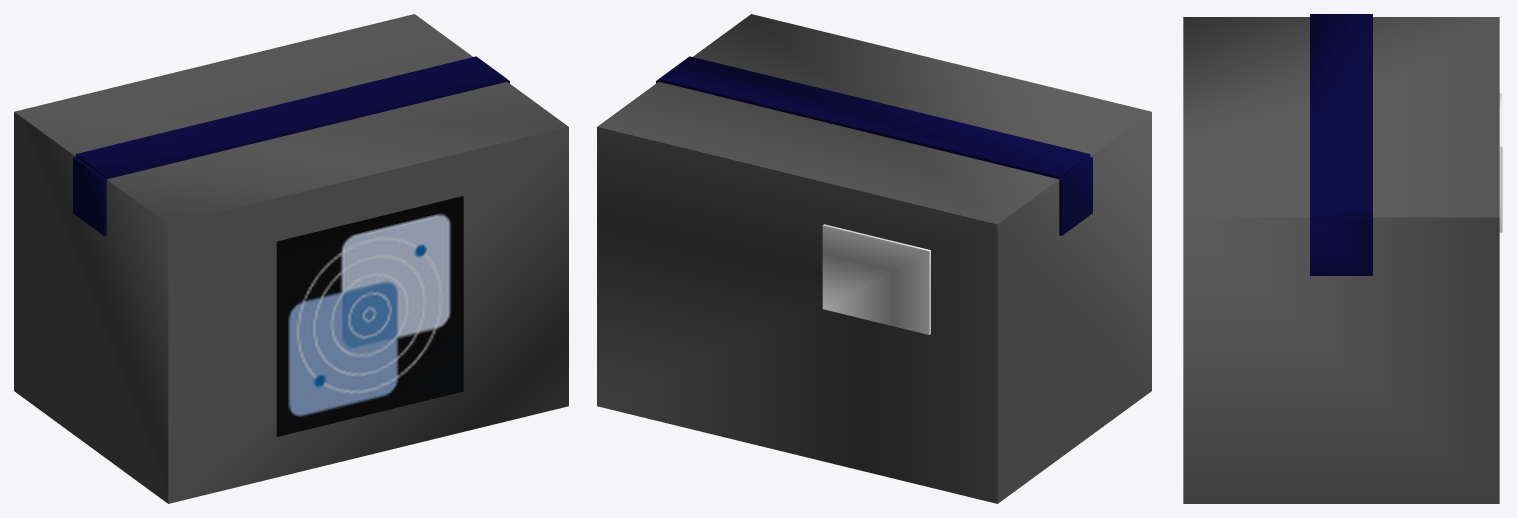
The picture shows the model from 3 angles, left to right: view 1: azimuth 30°, elevation 25°; view 2: azimuth 150°, elevation 25°; view 3: azimuth 270°, elevation 25°; orthographic projection. The views are drawn at different scales.
Parts seen in each view (by area): view 1: box0000002, rect, box0000003, box; view 2: box0000002, box0000003, box0000005, box; view 3: box0000002, box0000003, box0000001, box0000005.
Part boxes in pixels (box(x1,y1,x2,y2)): box0000002: box(14, 14, 568, 503); rect: box(276, 196, 463, 436); box0000003: box(75, 56, 507, 179); box: box(73, 157, 106, 235); box0000002: box(597, 14, 1151, 503); box0000003: box(658, 56, 1090, 179); box0000005: box(822, 224, 930, 334); box: box(1059, 157, 1092, 235); box0000002: box(1183, 17, 1499, 503); box0000003: box(1310, 14, 1372, 217); box0000001: box(1310, 217, 1372, 275); box0000005: box(1499, 93, 1502, 232).
Size of the model in its own units: 15.2 by 10.1 by 10.2.
